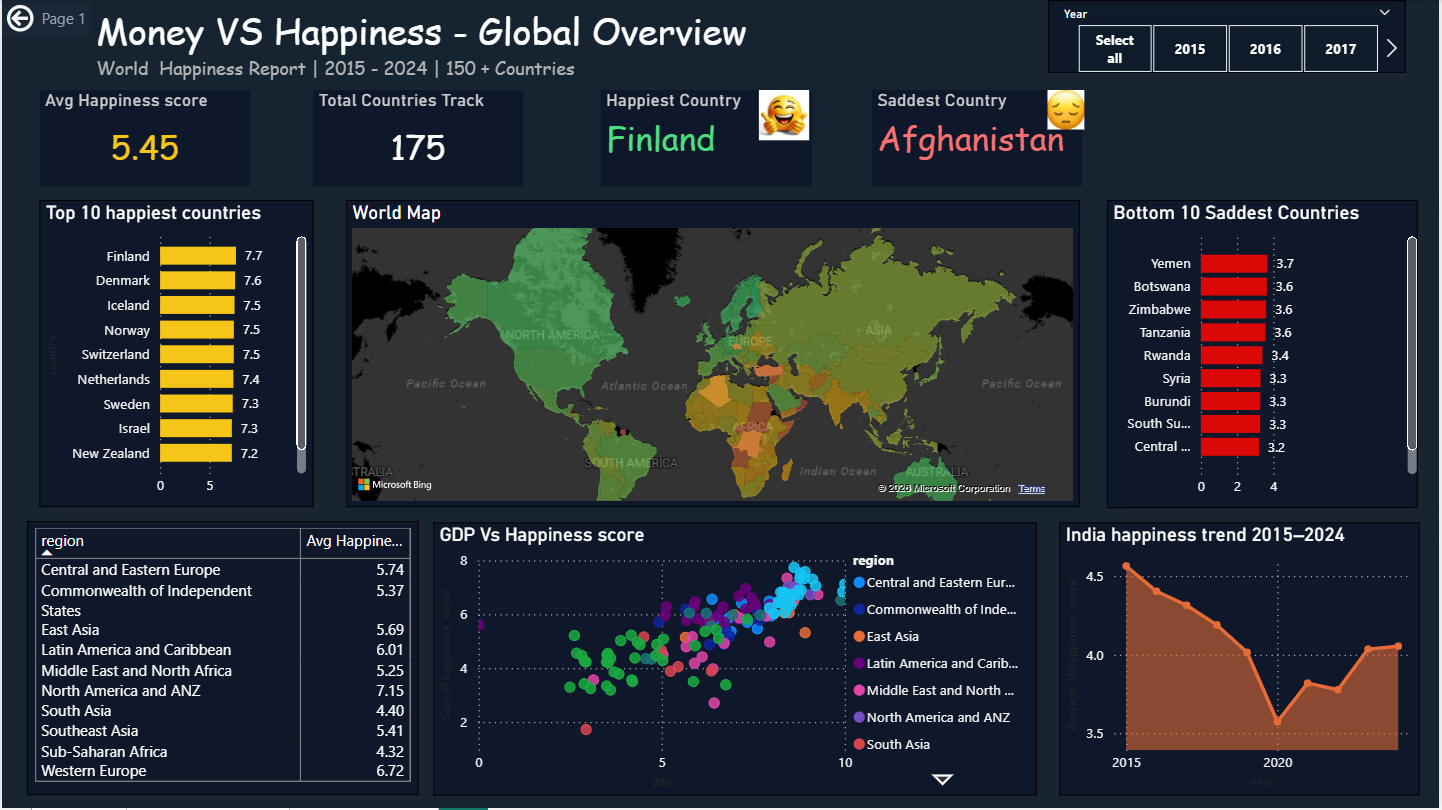

What the dashboard file says about the page in this screenshot:
{"tool":"powerbi","page":{"name":"Global Overview","canvas":[1280,720],"ordinal":1},"visuals":[{"type":"slicer","title":"Year","fields":{"Values":["world_happiness_cleaned.year"]},"box":[932,0,318,65],"z":0},{"type":"filledMap","title":" World Map ","fields":{"Category":["world_happiness_cleaned.country"]},"box":[306.4,178.6,653.9,273.9],"z":1000},{"type":"barChart","title":"Top 10 happiest countries","fields":{"Category":["world_happiness_cleaned.country"],"Y":["Avg(world_happiness_cleaned.happiness_score)"]},"box":[33.8,178.6,243.7,273.9],"z":2000},{"type":"barChart","title":"Bottom 10 Saddest Countries","fields":{"Category":["world_happiness_cleaned.country"],"Y":["Avg(world_happiness_cleaned.happiness_score)"]},"box":[984,178.4,277.2,274.4],"z":3000},{"type":"tableEx","title":"Avg Happiness by Region","fields":{"Values":["world_happiness_cleaned.region","Avg(world_happiness_cleaned.happiness_score)"]},"box":[22,463.8,348.5,244.3],"z":4000},{"type":"scatterChart","title":"GDP Vs Happiness score","fields":{"X":["world_happiness_cleaned.gdp"],"Y":["Sum(world_happiness_cleaned.happiness_score)"],"Series":["world_happiness_cleaned.region"]},"box":[384.2,465.2,537.9,242.9],"z":5000},{"type":"lineChart","title":"India happiness trend 2015–2024","fields":{"Category":["world_happiness_cleaned.year"],"Y":["Avg(world_happiness_cleaned.happiness_score)"],"Series":["world_happiness_cleaned.country"]},"box":[941.3,465.2,321.1,242.9],"z":6000},{"type":"card","title":"Avg Happiness score","fields":{"Values":["Avg(world_happiness_cleaned.happiness_score)"]},"box":[33.8,79.6,188.2,85.7],"z":7000},{"type":"card","title":"Total Countries Track","fields":{"Values":["Count(world_happiness_cleaned.country)"]},"box":[277.5,79.6,187,85.7],"z":8000},{"type":"multiRowCard","title":"Saddest Country","fields":{"Values":["world_happiness_cleaned.country"]},"box":[774.5,79.6,187,85.7],"z":9000},{"type":"multiRowCard","title":"Happiest Country","fields":{"Values":["world_happiness_cleaned.country"]},"box":[533.2,79.6,188.2,85.7],"z":10000},{"type":"textbox","box":[78.8,0,696.2,80],"z":11000},{"type":"image","box":[661.1,79.6,70,44.6],"z":12000},{"type":"image","box":[909.7,79.6,76,35],"z":13000},{"type":"actionButton","box":[0,0,78.8,32.5],"z":14000}]}

Visuals, with their boxes on the page's 1280x720 design canvas (x1, y1, x2, y2). These are canvas units, not pixel positions in the 1442x810 screenshot, which may show the page scaled, cropped or inside an application window:
"Year" slicer: locate(932, 0, 1250, 65)
" World Map " filledMap: locate(306, 179, 960, 452)
"Top 10 happiest countries" barChart: locate(34, 179, 278, 452)
"Bottom 10 Saddest Countries" barChart: locate(984, 178, 1261, 453)
"Avg Happiness by Region" tableEx: locate(22, 464, 370, 708)
"GDP Vs Happiness score" scatterChart: locate(384, 465, 922, 708)
"India happiness trend 2015–2024" lineChart: locate(941, 465, 1262, 708)
"Avg Happiness score" card: locate(34, 80, 222, 165)
"Total Countries Track" card: locate(278, 80, 464, 165)
"Saddest Country" multiRowCard: locate(774, 80, 962, 165)
"Happiest Country" multiRowCard: locate(533, 80, 721, 165)
textbox: locate(79, 0, 775, 80)
image: locate(661, 80, 731, 124)
image: locate(910, 80, 986, 115)
actionButton: locate(0, 0, 79, 32)
